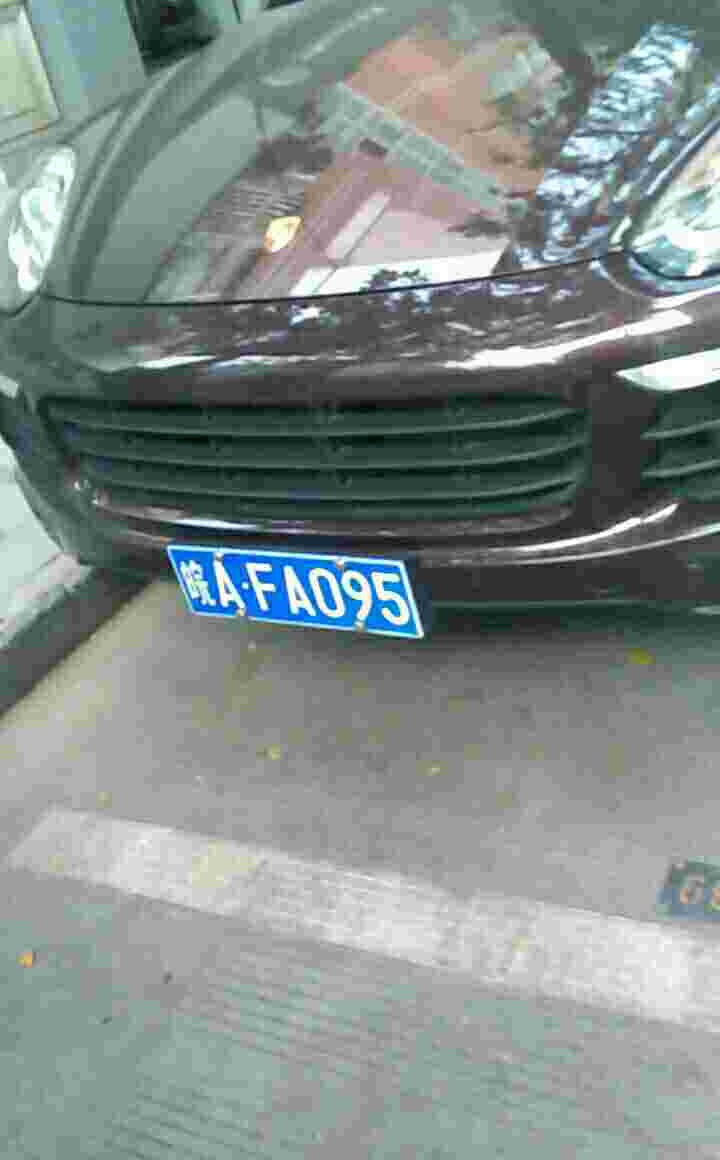license_plate: (178, 543, 417, 640)
